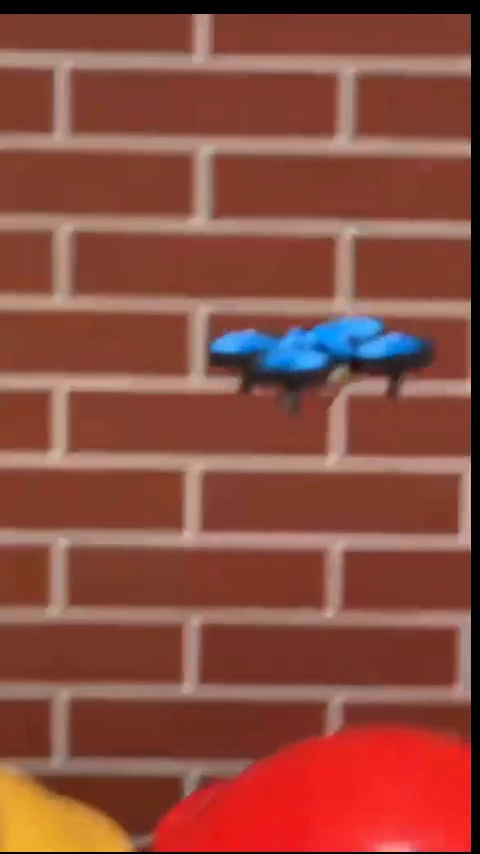drone: (213, 316, 431, 408)
